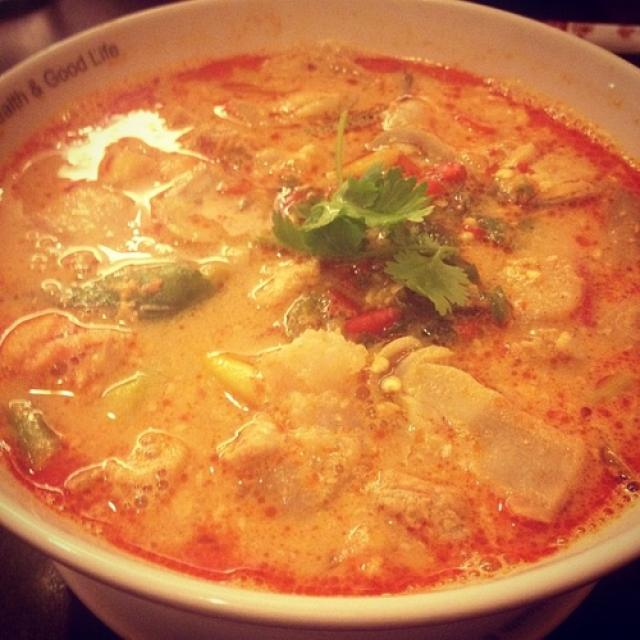汤锅炖物: (21, 37, 620, 613)
